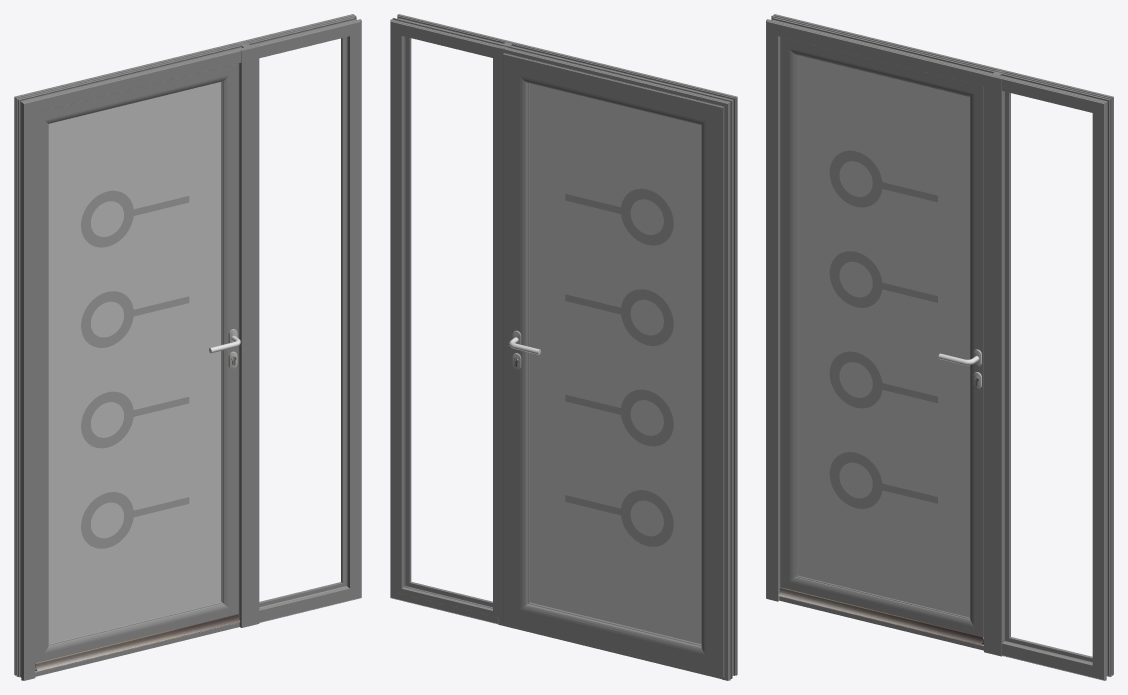
The picture shows the model from 3 angles, left to right: view 1: azimuth 30°, elevation 25°; view 2: azimuth 150°, elevation 25°; view 3: azimuth 330°, elevation 25°; orthographic projection.
Parts seen in each view (by area): view 1: fosco_11, aroFixo, aroMovel, montanteCentral, transparente_11, bite, borracha, escovas, rodaPe; view 2: fosco_11, aroMovel, aroFixo, bite, transparente_11, montanteCentral, borracha, rodaPe; view 3: fosco_11, aroFixo, aroMovel, montanteCentral, transparente_11, bite, escovas, borracha, rodaPe.
Boxes of the visible parts, x1,y1,x2,y2 form: fosco_11: (48,82,221,643); aroFixo: (14,14,361,680); aroMovel: (35,63,238,663); montanteCentral: (238,42,259,627); transparente_11: (81,190,189,548); bite: (259,37,346,607); borracha: (259,37,345,606); escovas: (35,614,240,671); rodaPe: (35,622,239,676); fosco_11: (529,83,701,644); aroMovel: (503,53,724,677); aroFixo: (390,14,737,680); bite: (396,29,498,617); transparente_11: (565,188,673,546); montanteCentral: (498,40,518,626); borracha: (404,36,492,608); rodaPe: (505,624,721,679); fosco_11: (797,55,969,617); aroFixo: (766,14,1113,680); aroMovel: (780,37,983,638); montanteCentral: (984,70,1004,656); transparente_11: (829,150,937,508); bite: (1005,91,1092,661); escovas: (778,587,983,645); borracha: (1006,92,1092,660); rodaPe: (779,596,983,650).
Bounding box in the file's own units: 1320 × 2149 × 185.
10 materials, 4 textured.
